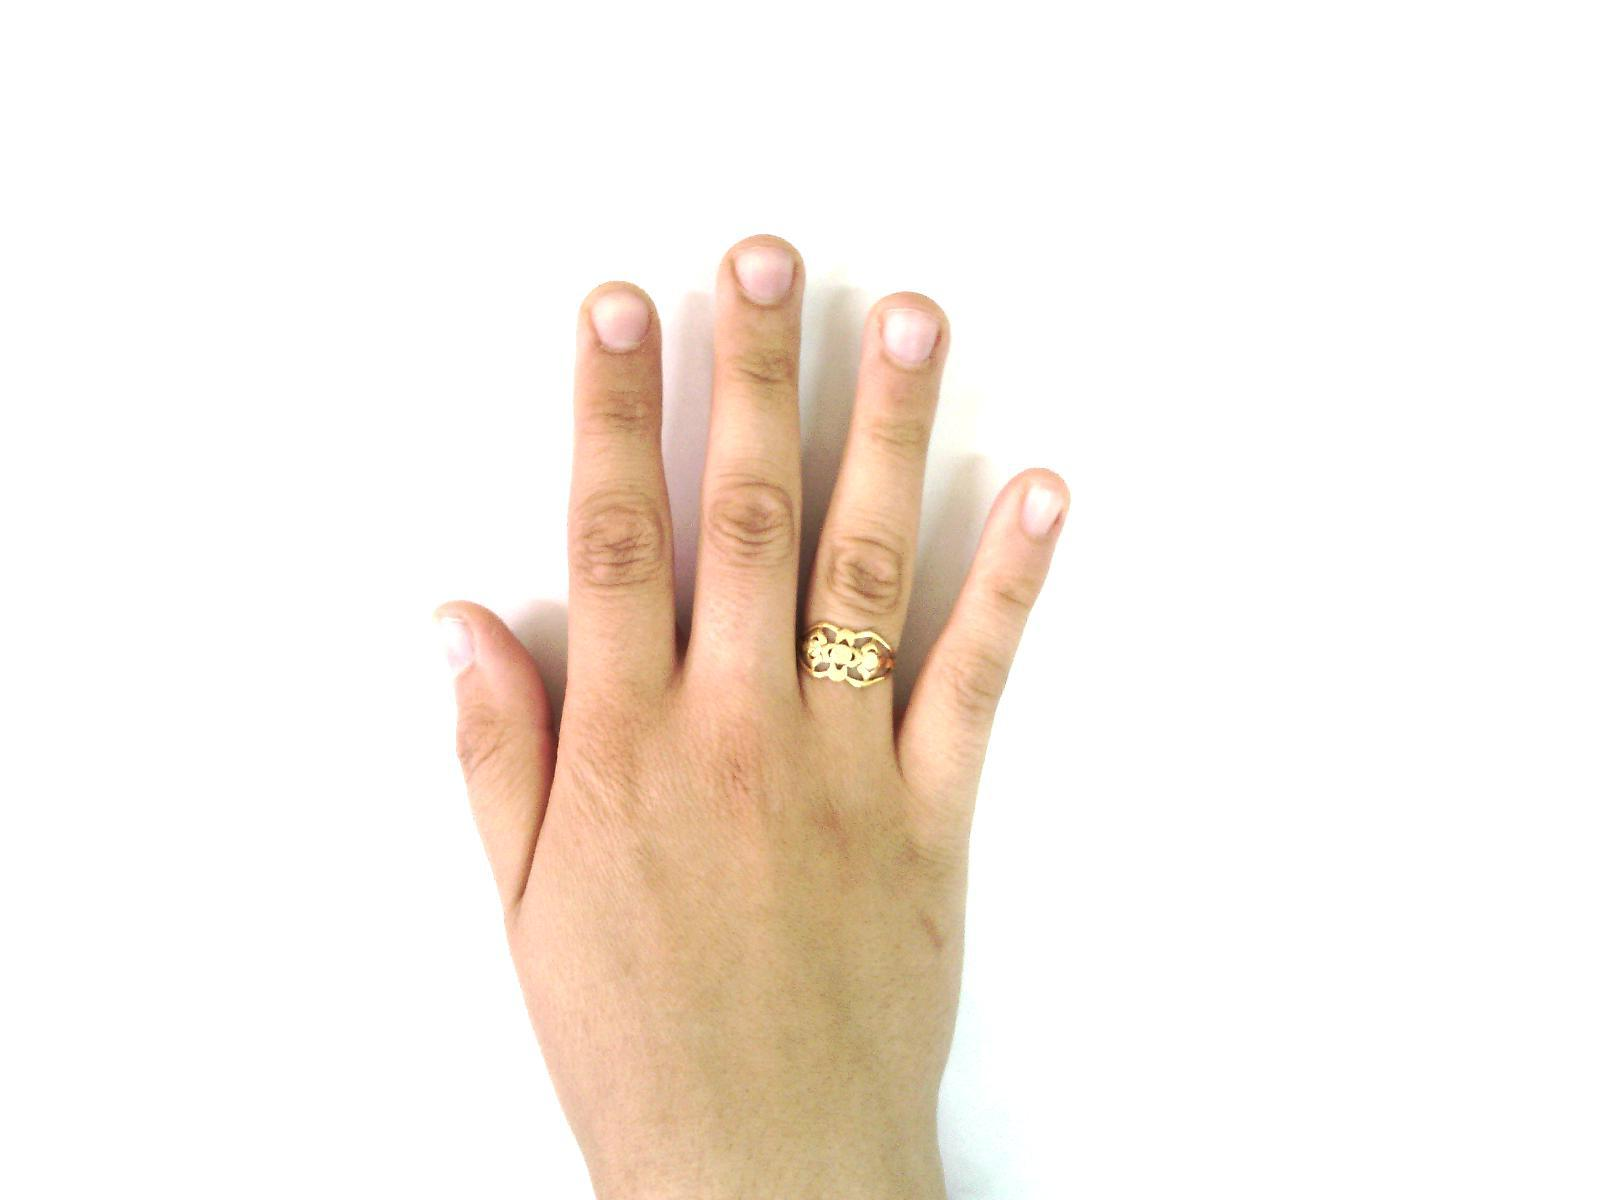hand: (438, 229, 1073, 1181)
